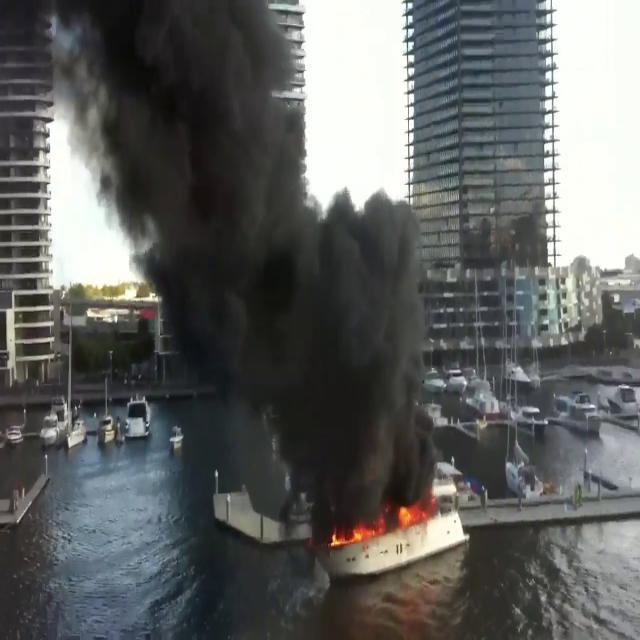Fire: (329, 497, 433, 547)
Smoke: (49, 0, 452, 493)
